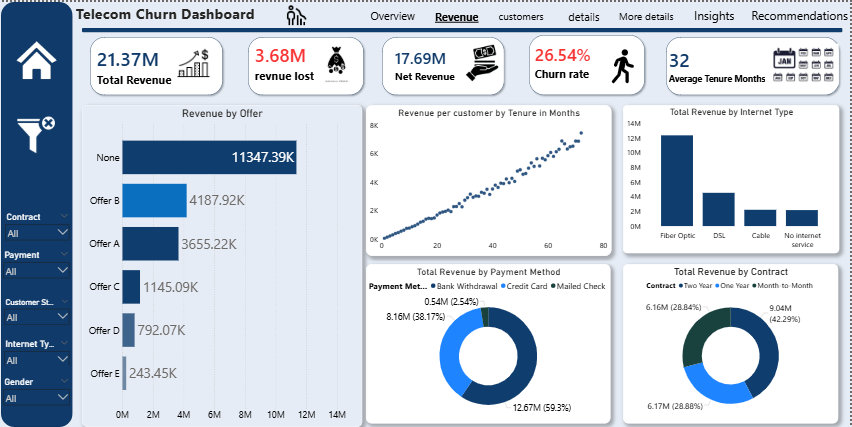

The dashboard page shown, as its layout file describes it:
{"tool":"powerbi","page":{"name":"Revenue","canvas":[2500,1250],"ordinal":2},"visuals":[{"type":"shape","box":[1547.2,88.9,358.3,194.4],"z":0},{"type":"shape","box":[1950,94.4,527.8,188.9],"z":1000},{"type":"shape","box":[719.4,94.4,358.3,188.9],"z":2000},{"type":"shape","box":[255.6,94.4,408.3,188.9],"z":3000},{"type":"shape","box":[1113.9,94.4,377.8,188.9],"z":4000},{"type":"clusteredBarChart","fields":{"Category":["fact_telecom_customer_churn.Offer"],"Y":["Sum(fact_telecom_customer_churn.Total Revenue)"]},"box":[241.2,302.9,823.5,947.1],"z":5000},{"type":"donutChart","fields":{"Category":["dim_contract.Contract"],"Y":["_measures.Total Revenue"]},"box":[1833.3,769.4,633.3,469.4],"z":6000},{"type":"donutChart","fields":{"Category":["dim_contract.Payment Method"],"Y":["_measures.Total Revenue"]},"box":[1077.8,769.4,719.4,469.4],"z":7000},{"type":"columnChart","fields":{"Category":["dim_internet_service.Internet Type"],"Y":["_measures.Total Revenue"]},"box":[1833.3,302.8,636.1,436.1],"z":8000},{"type":"cardVisual","fields":{"Data":["_measures.Average Tenure"]},"box":[1938.9,105.6,366.7,161.1],"z":9000},{"type":"shape","box":[242.1,76.3,2236.8,13.2],"z":10000},{"type":"cardVisual","fields":{"Data":["_measures.revnue lost"]},"box":[719.4,102.8,288.9,150],"z":11000},{"type":"scatterChart","fields":{"Y":["_measures.Revenue per customer"],"X":["fact_telecom_customer_churn.Tenure in Months"]},"box":[1077.8,302.8,722.2,444.4],"z":12000},{"type":"shape","box":[2.6,0,210.5,1250],"z":13000},{"type":"textbox","box":[218.4,0,660.5,84.2],"z":14000},{"type":"image","box":[800,0,145.9,78.4],"z":15000},{"type":"image","box":[2258.3,111.1,208.3,144.4],"z":16000},{"type":"image","box":[1344.4,122.2,147.2,111.1],"z":17000},{"type":"image","box":[913.9,113.9,150,122.2],"z":18000},{"type":"slicer","fields":{"Values":["dim_customer.Customer Status"]},"box":[2.7,864.9,210.8,86.5],"z":19000},{"type":"slicer","fields":{"Values":["dim_internet_service.Internet Type"]},"box":[2.7,986.5,210.8,83.8],"z":20000},{"type":"slicer","fields":{"Values":["dim_contract.Payment Method"]},"box":[0,724.3,213.5,97.3],"z":21000},{"type":"slicer","fields":{"Values":["dim_contract.Contract"]},"box":[5.4,610.8,208.1,97.3],"z":22000},{"type":"slicer","fields":{"Values":["dim_customer.Gender"]},"box":[0,1097.1,214.7,102.9],"z":23000},{"type":"actionButton","title":"Churn Overview","box":[1063.2,0,186.8,78.9],"z":24000},{"type":"actionButton","title":"Churn Overview","box":[1250,0,186.8,84.2],"z":25000},{"type":"actionButton","title":"Churn Overview","box":[1439.5,0,189.5,78.9],"z":26000},{"type":"actionButton","title":"Churn Overview","box":[1642.1,0,152.6,84.2],"z":27000},{"type":"actionButton","title":"Churn Overview","box":[1794.7,0,213.2,78.9],"z":28000},{"type":"actionButton","title":"Churn Overview","box":[2018.4,0,165.8,78.9],"z":29000},{"type":"actionButton","title":"Churn Overview","box":[2202.6,0,297.4,78.9],"z":30000},{"type":"cardVisual","fields":{"Data":["_measures.Total Revenue"]},"box":[255.6,94.4,294.4,188.9],"z":31000},{"type":"cardVisual","fields":{"Data":["_measures.churn_rate"]},"box":[1544.4,88.9,288.9,175],"z":32000},{"type":"image","box":[497.2,125,144.4,108.3],"z":33000},{"type":"image","box":[1777.8,125,111.1,125],"z":34000},{"type":"cardVisual","fields":{"Data":["_measures.Net Revenue"]},"box":[1132.4,100,264.7,167.6],"z":35000},{"type":"image","box":[40.5,110.8,132.4,118.9],"z":36000},{"type":"image","box":[21.6,335.1,170.3,110.8],"z":37000}]}

Visuals, with their boxes on the page's 2500x1250 design canvas (x1, y1, x2, y2). These are canvas units, not pixel positions in the 852x427 screenshot, which may show the page scaled, cropped or inside an application window:
shape: select_region(1547, 89, 1906, 283)
shape: select_region(1950, 94, 2478, 283)
shape: select_region(719, 94, 1078, 283)
shape: select_region(256, 94, 664, 283)
shape: select_region(1114, 94, 1492, 283)
clusteredBarChart - fact_telecom_customer_churn.Offer x Sum(fact_telecom_customer_churn.Total Revenue): select_region(241, 303, 1065, 1250)
donutChart - dim_contract.Contract x _measures.Total Revenue: select_region(1833, 769, 2467, 1239)
donutChart - dim_contract.Payment Method x _measures.Total Revenue: select_region(1078, 769, 1797, 1239)
columnChart - dim_internet_service.Internet Type x _measures.Total Revenue: select_region(1833, 303, 2469, 739)
cardVisual - _measures.Average Tenure: select_region(1939, 106, 2306, 267)
shape: select_region(242, 76, 2479, 90)
cardVisual - _measures.revnue lost: select_region(719, 103, 1008, 253)
scatterChart - _measures.Revenue per customer x fact_telecom_customer_churn.Tenure in Months: select_region(1078, 303, 1800, 747)
shape: select_region(3, 0, 213, 1250)
textbox: select_region(218, 0, 879, 84)
image: select_region(800, 0, 946, 78)
image: select_region(2258, 111, 2467, 256)
image: select_region(1344, 122, 1492, 233)
image: select_region(914, 114, 1064, 236)
slicer - dim_customer.Customer Status: select_region(3, 865, 214, 951)
slicer - dim_internet_service.Internet Type: select_region(3, 986, 214, 1070)
slicer - dim_contract.Payment Method: select_region(0, 724, 214, 822)
slicer - dim_contract.Contract: select_region(5, 611, 214, 708)
slicer - dim_customer.Gender: select_region(0, 1097, 215, 1200)
"Churn Overview" actionButton: select_region(1063, 0, 1250, 79)
"Churn Overview" actionButton: select_region(1250, 0, 1437, 84)
"Churn Overview" actionButton: select_region(1440, 0, 1629, 79)
"Churn Overview" actionButton: select_region(1642, 0, 1795, 84)
"Churn Overview" actionButton: select_region(1795, 0, 2008, 79)
"Churn Overview" actionButton: select_region(2018, 0, 2184, 79)
"Churn Overview" actionButton: select_region(2203, 0, 2500, 79)
cardVisual - _measures.Total Revenue: select_region(256, 94, 550, 283)
cardVisual - _measures.churn_rate: select_region(1544, 89, 1833, 264)
image: select_region(497, 125, 642, 233)
image: select_region(1778, 125, 1889, 250)
cardVisual - _measures.Net Revenue: select_region(1132, 100, 1397, 268)
image: select_region(40, 111, 173, 230)
image: select_region(22, 335, 192, 446)
